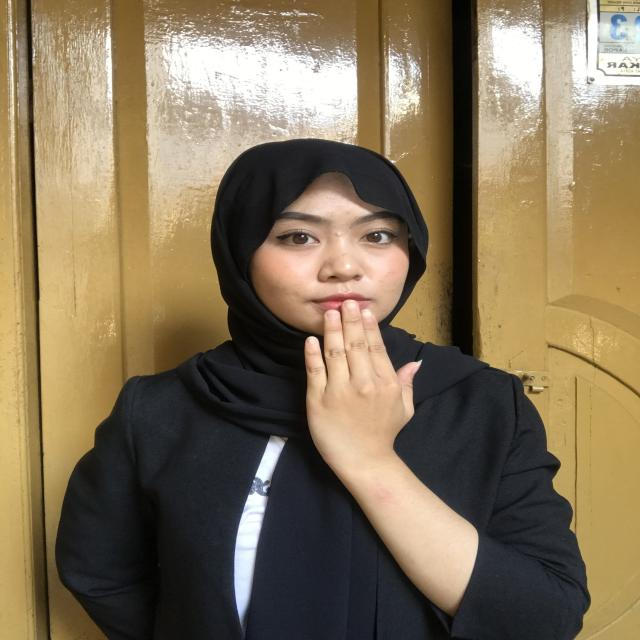ganteng: (287, 296, 436, 472)
